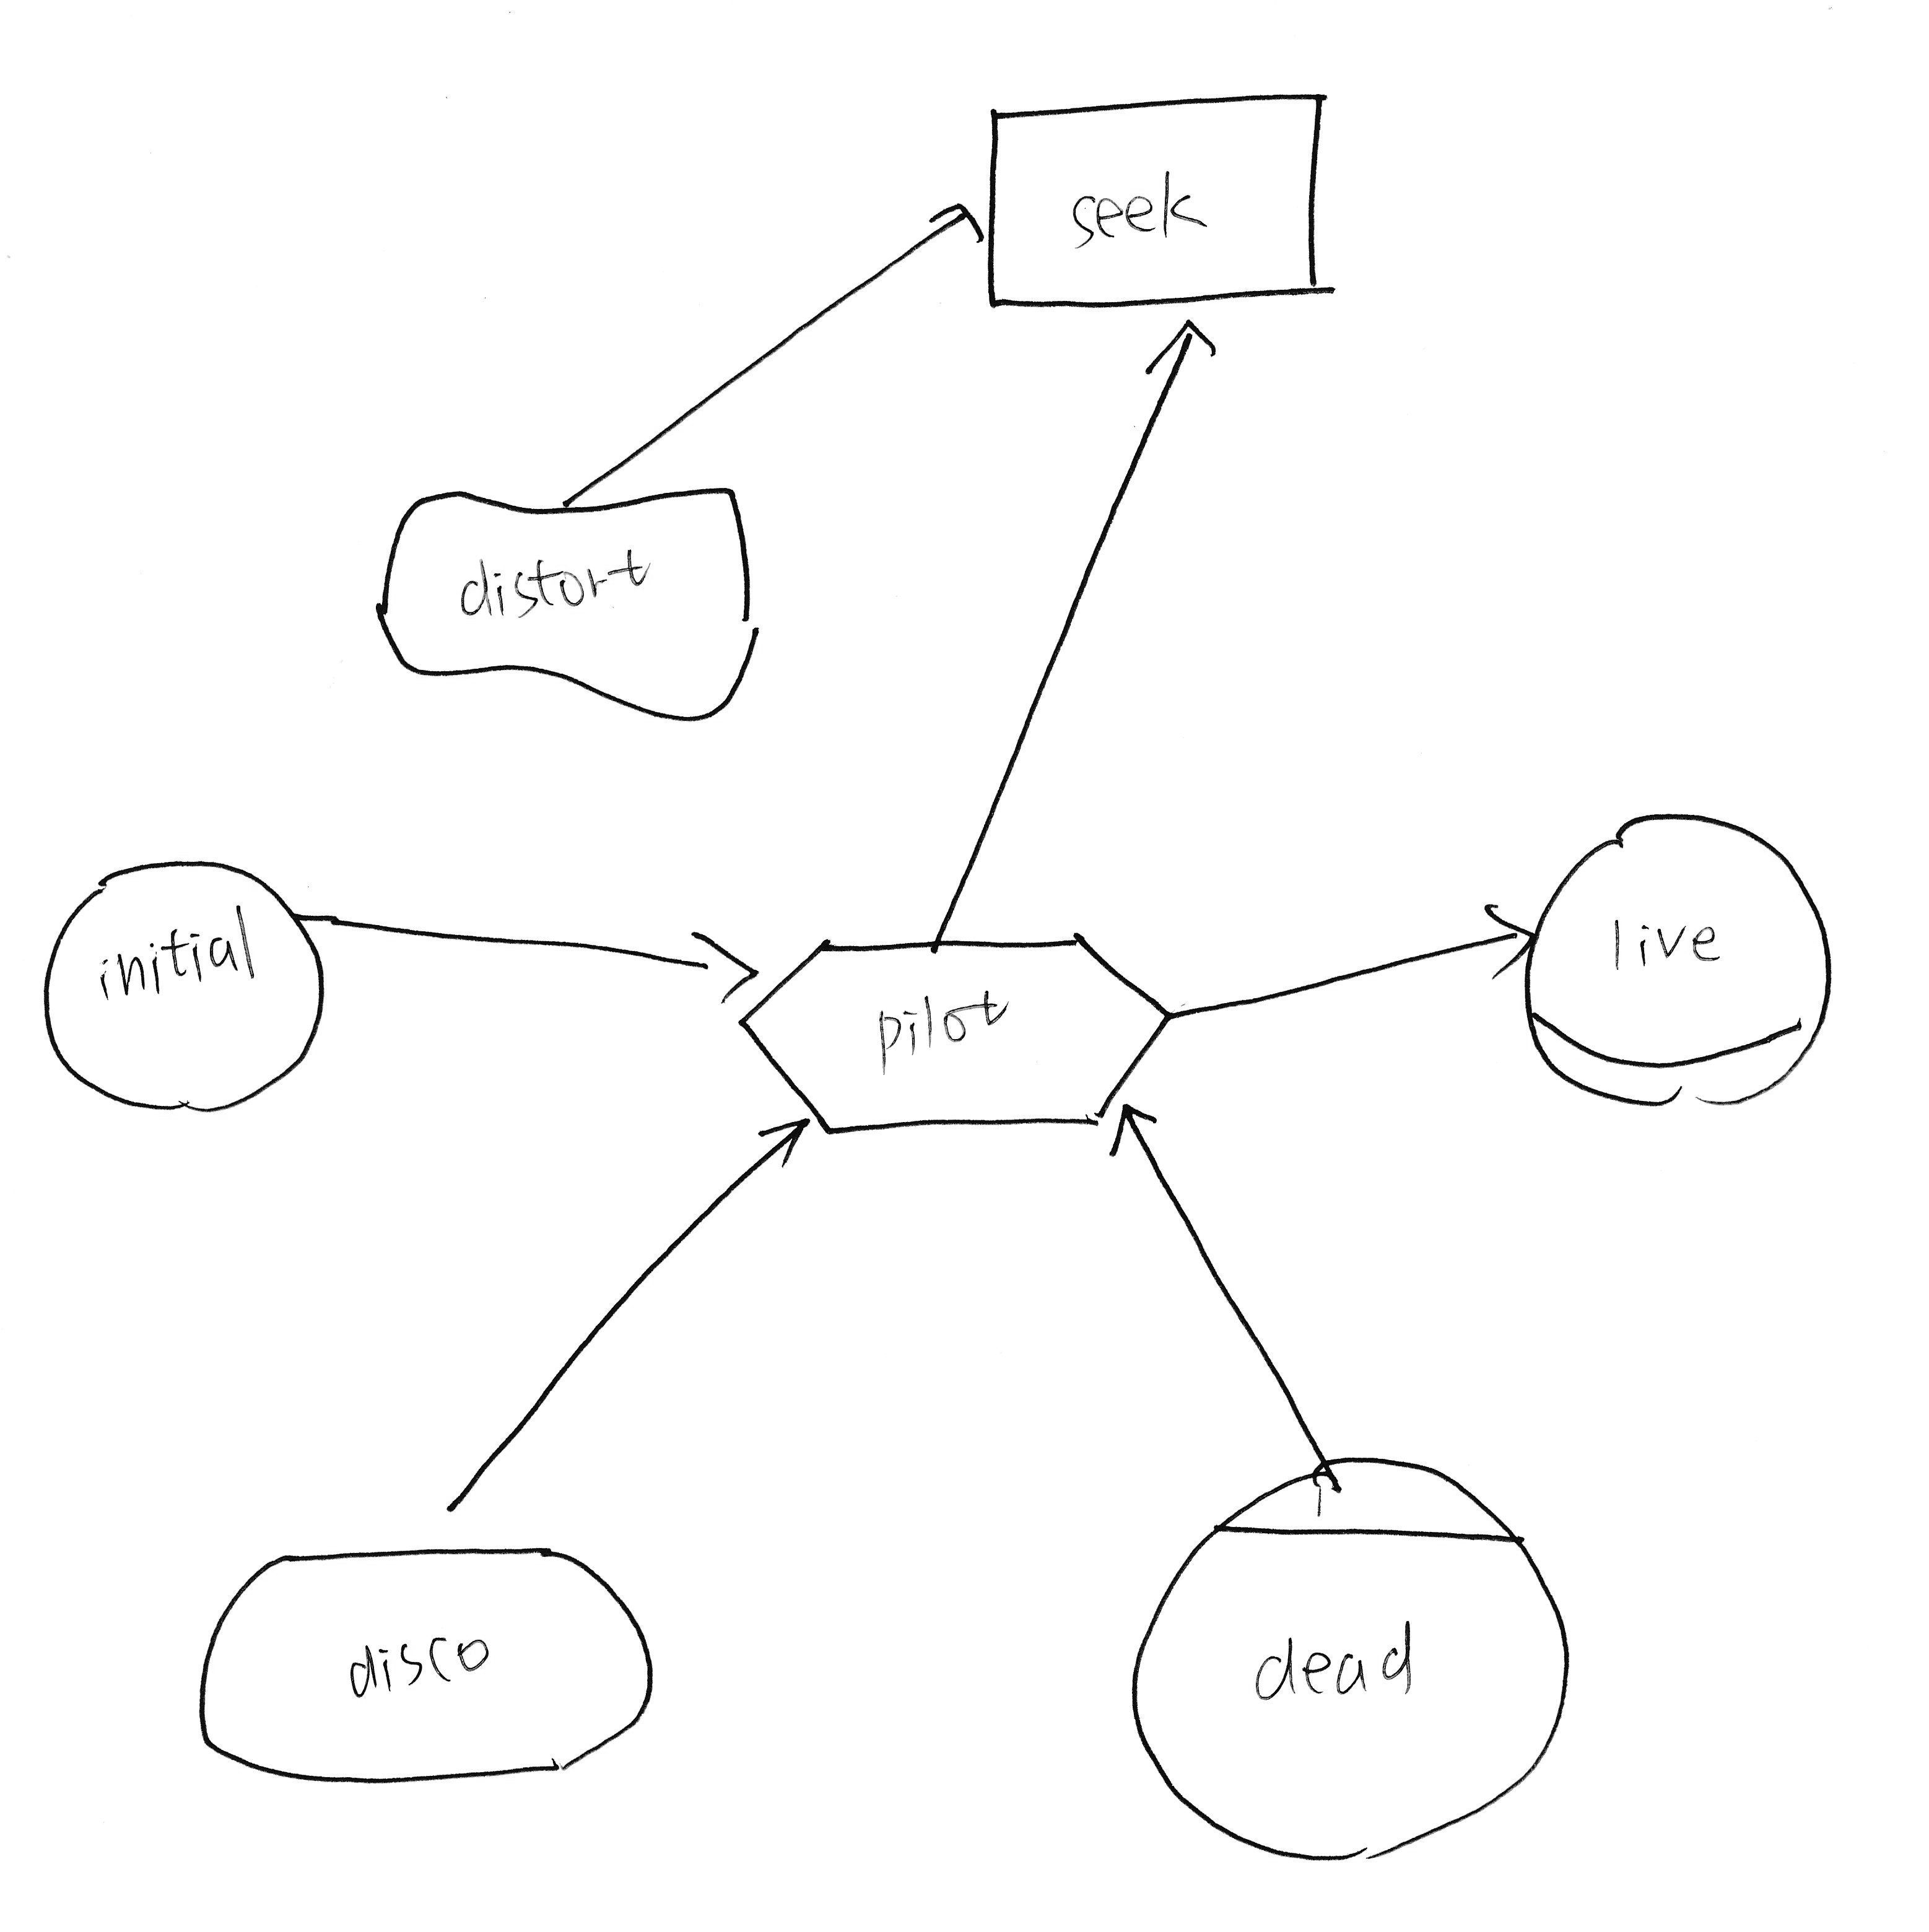actor: (26, 846, 350, 1128)
agent: (1109, 1422, 1592, 1886)
arrow: (655, 906, 774, 1038), (1129, 297, 1245, 390), (1466, 887, 1556, 998), (1078, 1086, 1180, 1171), (913, 180, 1005, 268), (737, 1100, 827, 1176)
goal: (178, 1524, 680, 1801)
quality: (348, 470, 786, 738)
resource: (961, 74, 1358, 339)
role: (1496, 788, 1857, 1127)
task: (717, 909, 1185, 1160)
